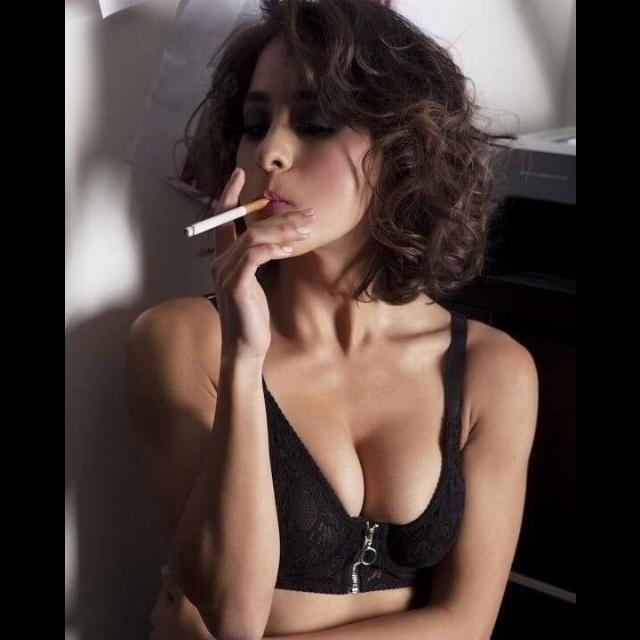rokok: (179, 194, 275, 240)
